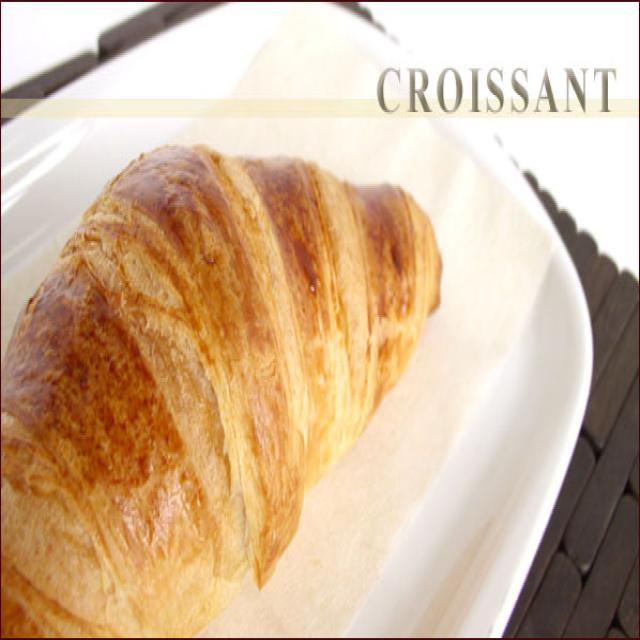Croissant: (0, 133, 456, 640)
